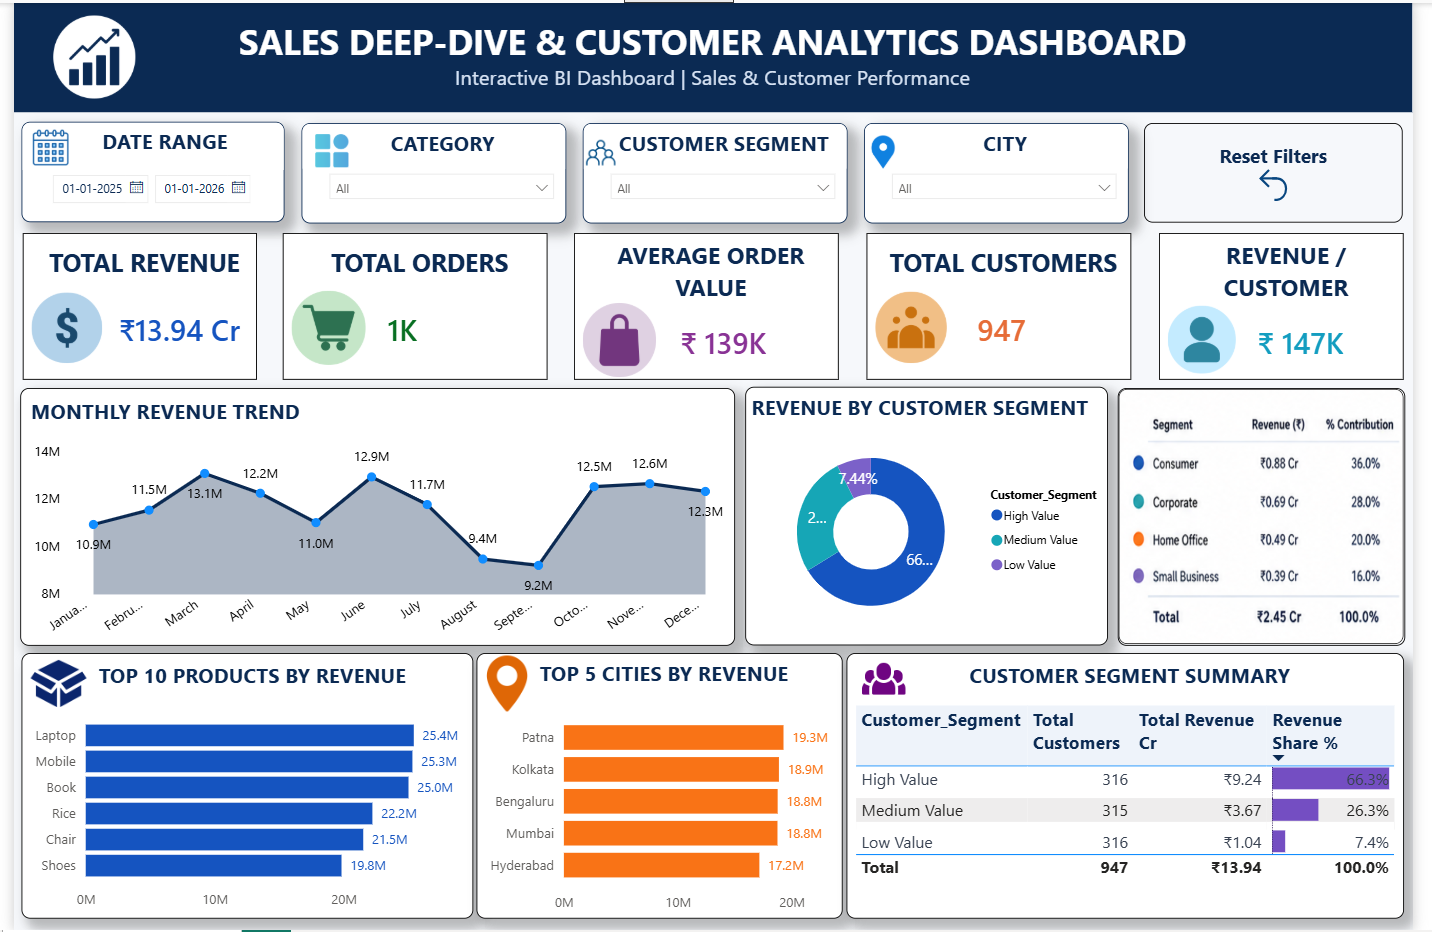

The dashboard page shown, as its layout file describes it:
{"tool":"powerbi","page":{"name":"Sales Deep-Dive Dashboard","canvas":[1280,850],"ordinal":0},"visuals":[{"type":"shape","box":[0,0,1280,100],"z":0},{"type":"textbox","box":[195,0,890,100],"z":1000},{"type":"slicer","title":"DATE RANGE","fields":{"Values":["task3_dashboard_data.Order_Date"]},"box":[7.1,109,241,92],"z":2000},{"type":"slicer","title":"CATEGORY","fields":{"Values":["task3_dashboard_data.Category"]},"box":[263.3,110,242,92],"z":3000},{"type":"slicer","title":"CUSTOMER SEGMENT","fields":{"Values":["task3_dashboard_data.Customer_Segment"]},"box":[520.7,110,242,92],"z":4000},{"type":"slicer","title":"CITY","fields":{"Values":["task3_dashboard_data.City"]},"box":[778,110,242,92],"z":5000},{"type":"cardVisual","title":"TOTAL REVENUE","fields":{"Data":["task3_dashboard_data.Total Revenue Cr"]},"box":[7.7,210.3,214,134],"z":6000},{"type":"cardVisual","title":"TOTAL ORDERS","fields":{"Data":["task3_dashboard_data.Total Orders"]},"box":[245.5,210,242,134],"z":7000},{"type":"cardVisual","title":"AVERAGE ORDER VALUE","fields":{"Data":["task3_dashboard_data.Average Order Value"]},"box":[513,210,242,134],"z":8000},{"type":"cardVisual","title":"TOTAL CUSTOMERS","fields":{"Data":["task3_dashboard_data.Total Customers"]},"box":[780.5,210,242,134],"z":9000},{"type":"cardVisual","title":"REVENUE / CUSTOMER","fields":{"Data":["task3_dashboard_data.Revenue per Customer"]},"box":[1048,210,224,134],"z":10000},{"type":"lineChart","title":"MONTHLY REVENUE TREND","fields":{"Category":["task3_dashboard_data.Order_Date.Variation.Date Hierarchy.Month"],"Y":["task3_dashboard_data.Total Revenue"]},"box":[6,352,654,236],"z":11000},{"type":"donutChart","title":"REVENUE BY CUSTOMER SEGMENT","fields":{"Category":["task3_dashboard_data.Customer_Segment"],"Y":["task3_dashboard_data.Total Revenue"]},"box":[669.2,351.7,331.7,236.7],"z":12000},{"type":"clusteredBarChart","title":"TOP 10 PRODUCTS BY REVENUE","fields":{"Category":["task3_dashboard_data.Product"],"Y":["task3_dashboard_data.Total Revenue"]},"box":[6.7,595,413.3,243.3],"z":13000},{"type":"clusteredBarChart","title":"TOP 5 CITIES BY REVENUE","fields":{"Category":["task3_dashboard_data.City"],"Y":["task3_dashboard_data.Total Revenue"]},"box":[423.3,595,335,243.3],"z":14000},{"type":"tableEx","title":"CUSTOMER SEGMENT SUMMARY","fields":{"Values":["task3_dashboard_data.Customer_Segment","task3_dashboard_data.Total Customers","task3_dashboard_data.Total Revenue Cr","task3_dashboard_data.Revenue Share %"]},"box":[761.7,595,510,243.3],"z":15000},{"type":"image","box":[1010,352.9,262.9,235.7],"z":16000},{"type":"actionButton","box":[1034.3,110,237.1,91.4],"z":17000},{"type":"image","box":[34.3,11.4,78.6,75.7],"z":18000},{"type":"image","box":[17.1,108.6,42.9,47.1],"z":19000},{"type":"image","box":[275.7,114.3,30,41.4],"z":20000},{"type":"image","box":[520,101.4,31.4,70],"z":21000},{"type":"image","box":[780.8,112.8,30.8,46.2],"z":22000},{"type":"image","box":[7.7,597.4,65.4,51.3],"z":23000},{"type":"image","box":[423.1,597.4,56.4,51.3],"z":24000},{"type":"image","box":[767.9,597.4,56.4,42.3],"z":25000}]}

Visuals, with their boxes in screenshot pixels (x1, y1, x2, y2), scaled from the page's 1280x850 canvas onto the 1432x932 screenshot:
shape: x1=0, y1=0, x2=1431, y2=110
textbox: x1=218, y1=0, x2=1214, y2=110
"DATE RANGE" slicer: x1=8, y1=120, x2=278, y2=220
"CATEGORY" slicer: x1=295, y1=121, x2=565, y2=221
"CUSTOMER SEGMENT" slicer: x1=583, y1=121, x2=853, y2=221
"CITY" slicer: x1=870, y1=121, x2=1141, y2=221
"TOTAL REVENUE" cardVisual: x1=9, y1=231, x2=248, y2=378
"TOTAL ORDERS" cardVisual: x1=275, y1=230, x2=545, y2=377
"AVERAGE ORDER VALUE" cardVisual: x1=574, y1=230, x2=845, y2=377
"TOTAL CUSTOMERS" cardVisual: x1=873, y1=230, x2=1144, y2=377
"REVENUE / CUSTOMER" cardVisual: x1=1172, y1=230, x2=1423, y2=377
"MONTHLY REVENUE TREND" lineChart: x1=7, y1=386, x2=738, y2=645
"REVENUE BY CUSTOMER SEGMENT" donutChart: x1=749, y1=386, x2=1120, y2=645
"TOP 10 PRODUCTS BY REVENUE" clusteredBarChart: x1=7, y1=652, x2=470, y2=919
"TOP 5 CITIES BY REVENUE" clusteredBarChart: x1=474, y1=652, x2=848, y2=919
"CUSTOMER SEGMENT SUMMARY" tableEx: x1=852, y1=652, x2=1423, y2=919
image: x1=1130, y1=387, x2=1424, y2=645
actionButton: x1=1157, y1=121, x2=1422, y2=221
image: x1=38, y1=12, x2=126, y2=96
image: x1=19, y1=119, x2=67, y2=171
image: x1=308, y1=125, x2=342, y2=171
image: x1=582, y1=111, x2=617, y2=188
image: x1=874, y1=124, x2=908, y2=174
image: x1=9, y1=655, x2=82, y2=711
image: x1=473, y1=655, x2=536, y2=711
image: x1=859, y1=655, x2=922, y2=701
